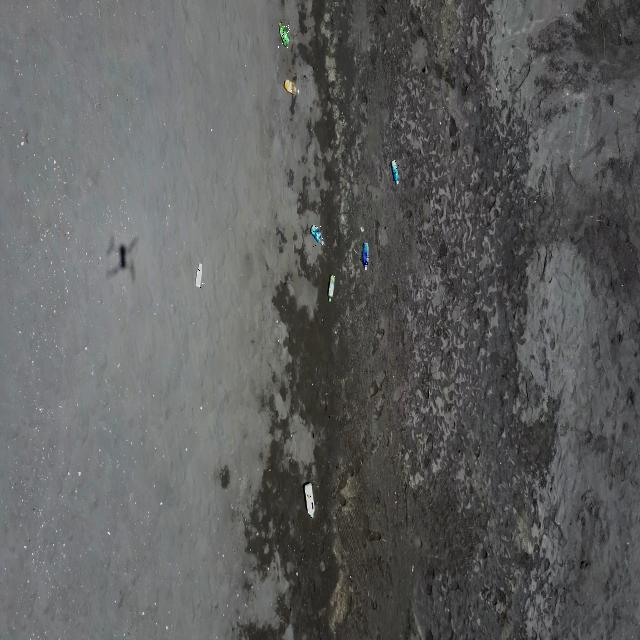plastic-bottle: (302, 482, 315, 518), (278, 21, 290, 48), (310, 225, 324, 248), (284, 79, 300, 96), (361, 241, 370, 271), (327, 274, 336, 302), (389, 160, 399, 185), (195, 262, 204, 288)
